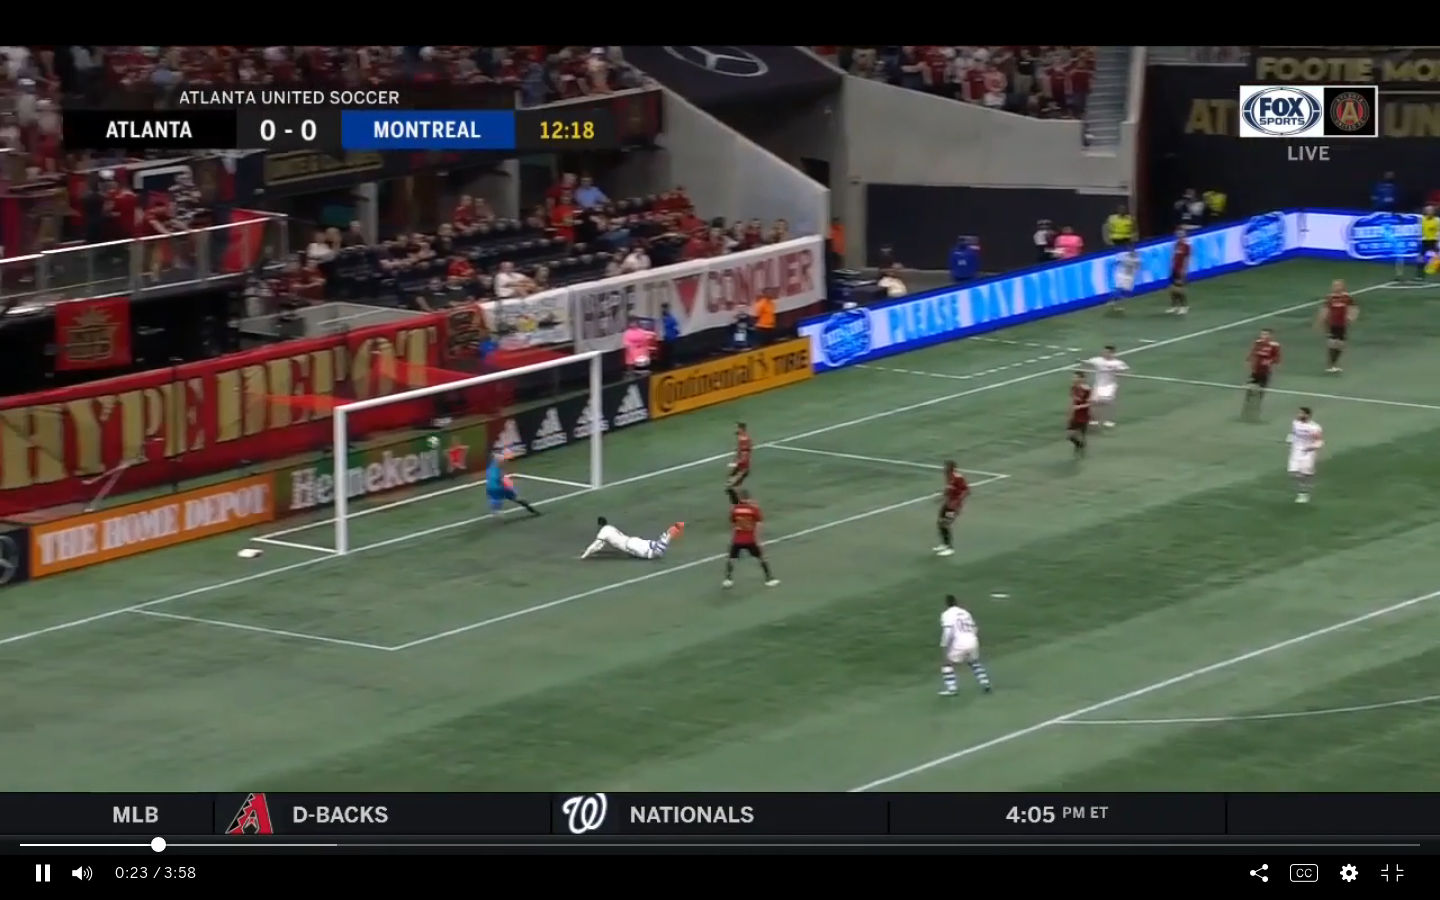soccer player: (930, 588, 995, 697), (576, 516, 685, 572), (722, 488, 779, 589), (475, 446, 545, 525), (1236, 326, 1287, 423), (925, 456, 973, 557), (1312, 279, 1359, 376), (1284, 405, 1327, 511), (1087, 345, 1130, 432), (724, 419, 758, 516), (1165, 228, 1202, 314), (1070, 368, 1092, 457)
soccerball: (424, 429, 441, 451)
